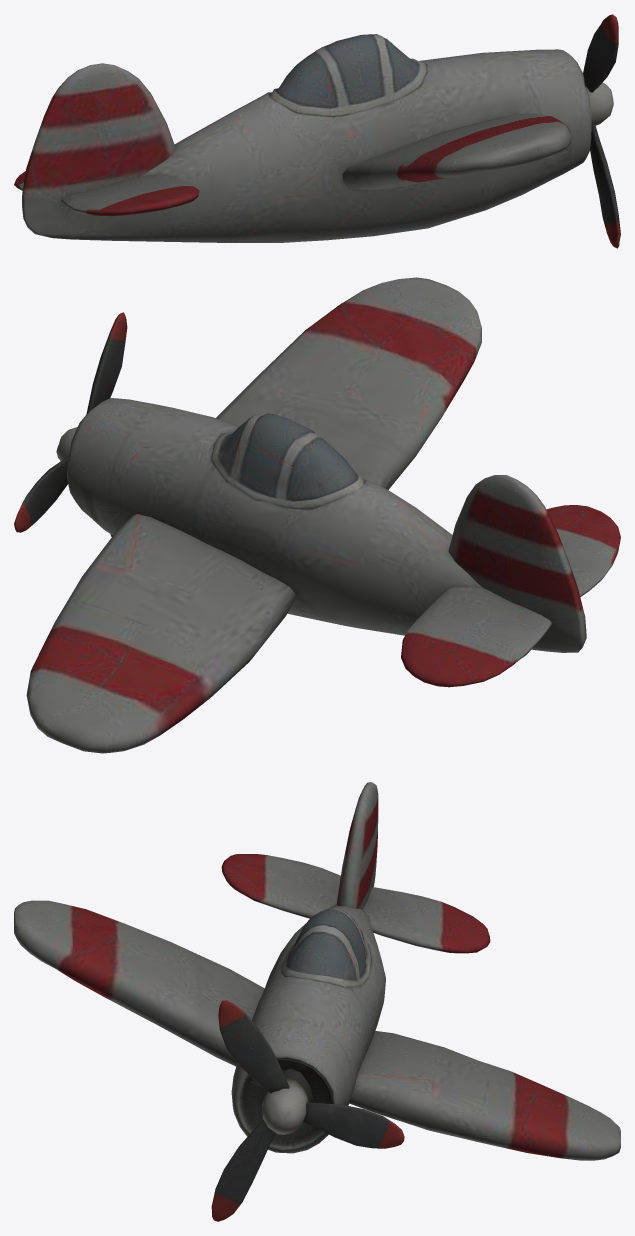
The model's file is strafer.glb.
3 views of the same model, one above another, from view 1: azimuth 30°, elevation 25°; view 2: azimuth 150°, elevation 25°; view 3: azimuth 270°, elevation 25° (orthographic). The views are drawn at different scales.
Parts seen in each view (by area): view 1: hull; view 2: hull; view 3: hull.
Part boxes in pixels (x1,y1,x2,y2): hull: (14, 14, 620, 248); hull: (14, 277, 620, 753); hull: (14, 782, 620, 1221).
Size of the model in its own units: 0.9983 by 0.4154 by 1.
1 material, 1 textured.
